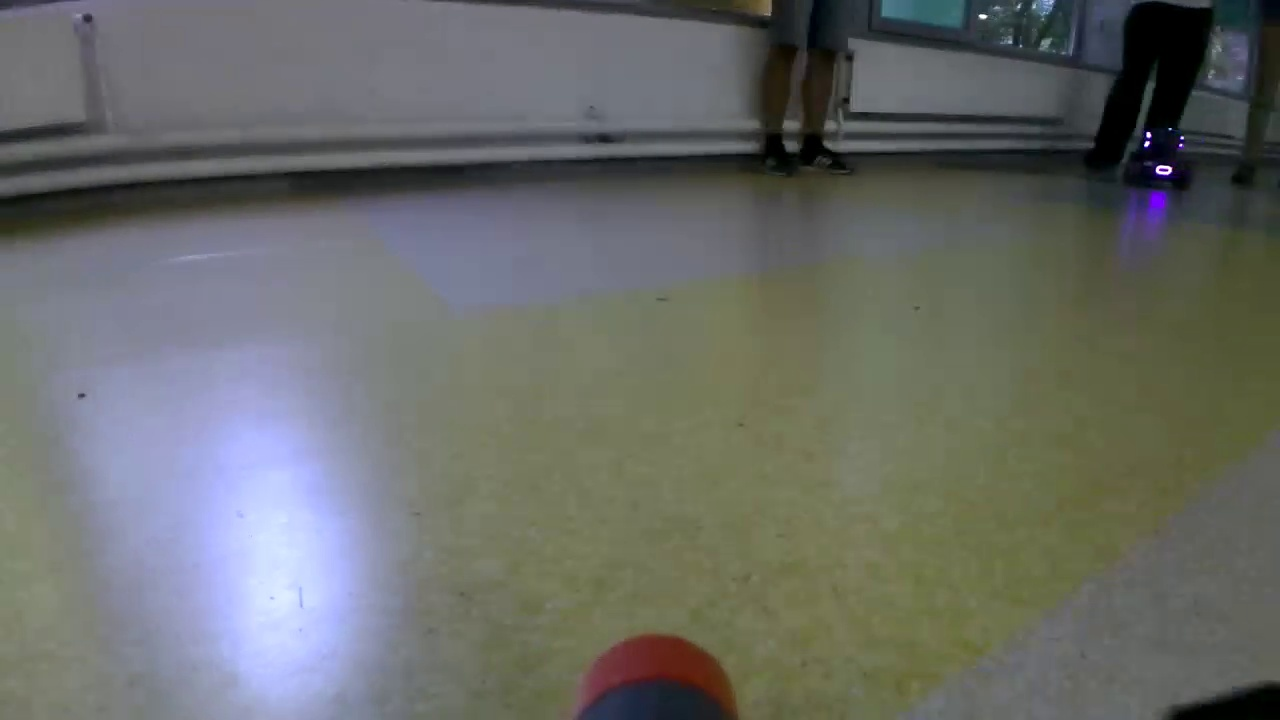robot: (1122, 118, 1199, 194)
